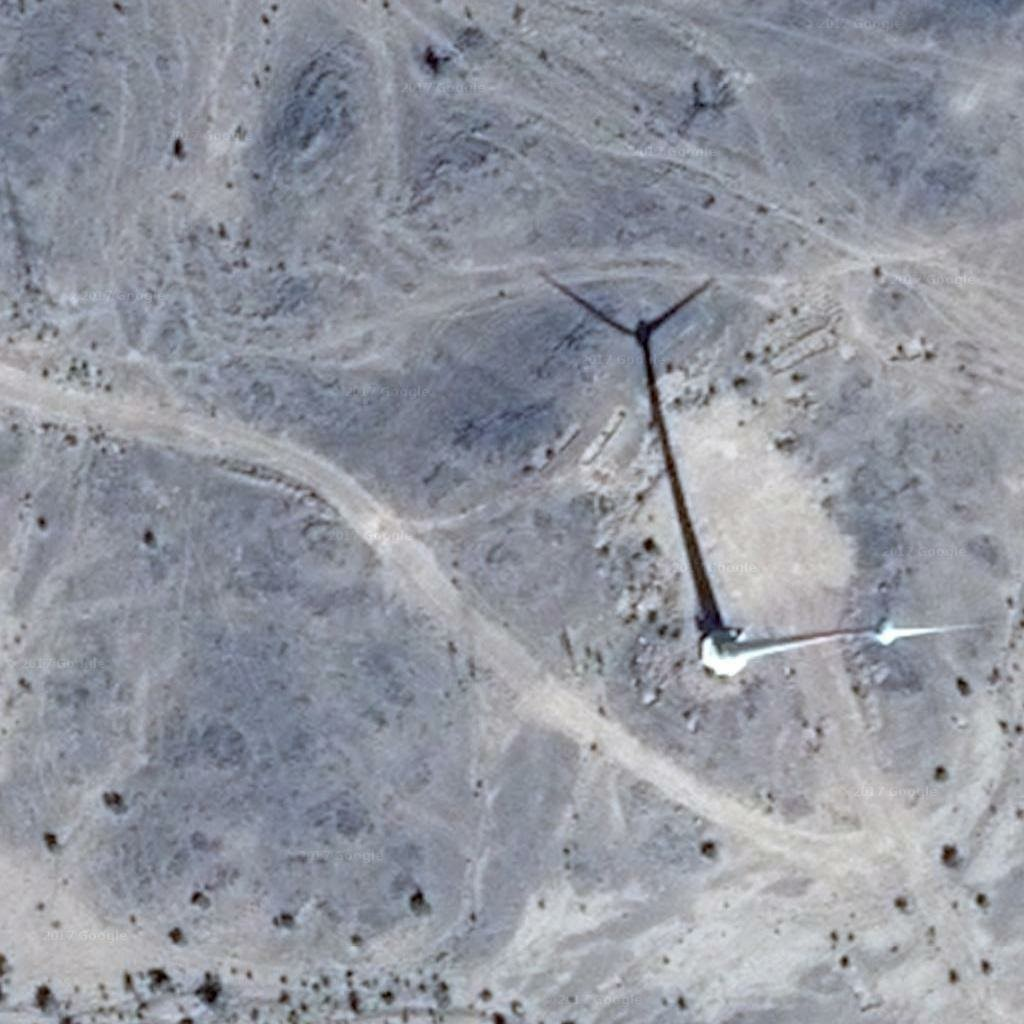Windmill: (536, 269, 770, 636)
